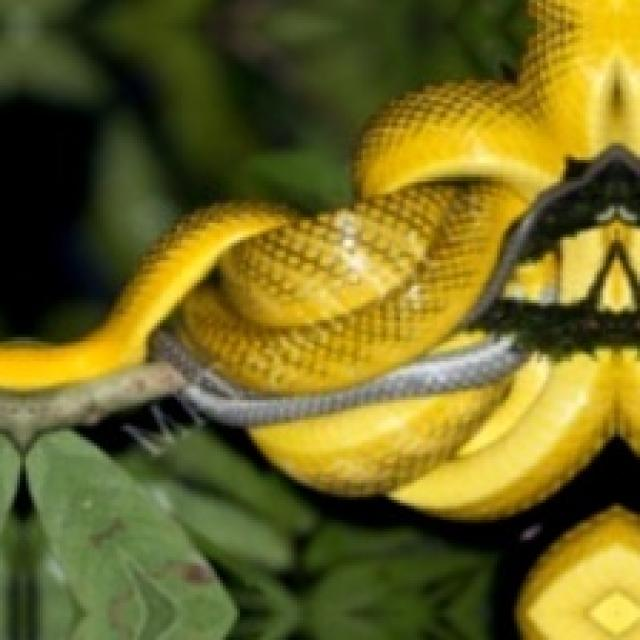red-tailed green ratsnake: (0, 0, 640, 518)
